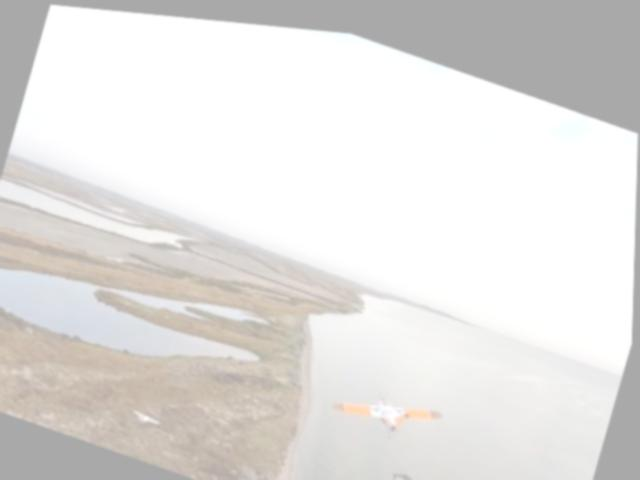uav: (332, 364, 451, 437), (133, 403, 164, 428), (392, 458, 427, 480)
